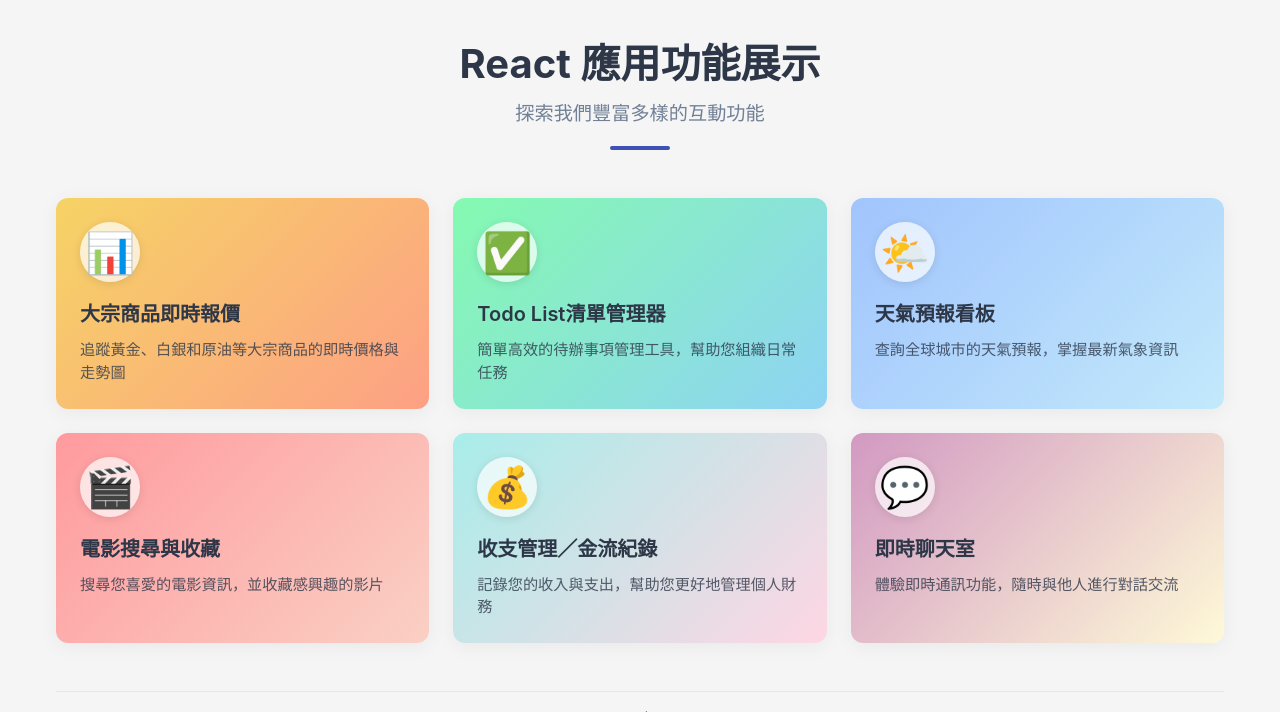
Scenario: Todo List 功能測試 › 可以新增一筆 todo，並完成、刪除它
This screenshot has width=1280, height=712.
Step 1. Click the link "✅ Todo List清單管理器 簡單高效的待辦事項管理工具，幫助您組織日常任務" → (640, 304), box [453,198,826,409]
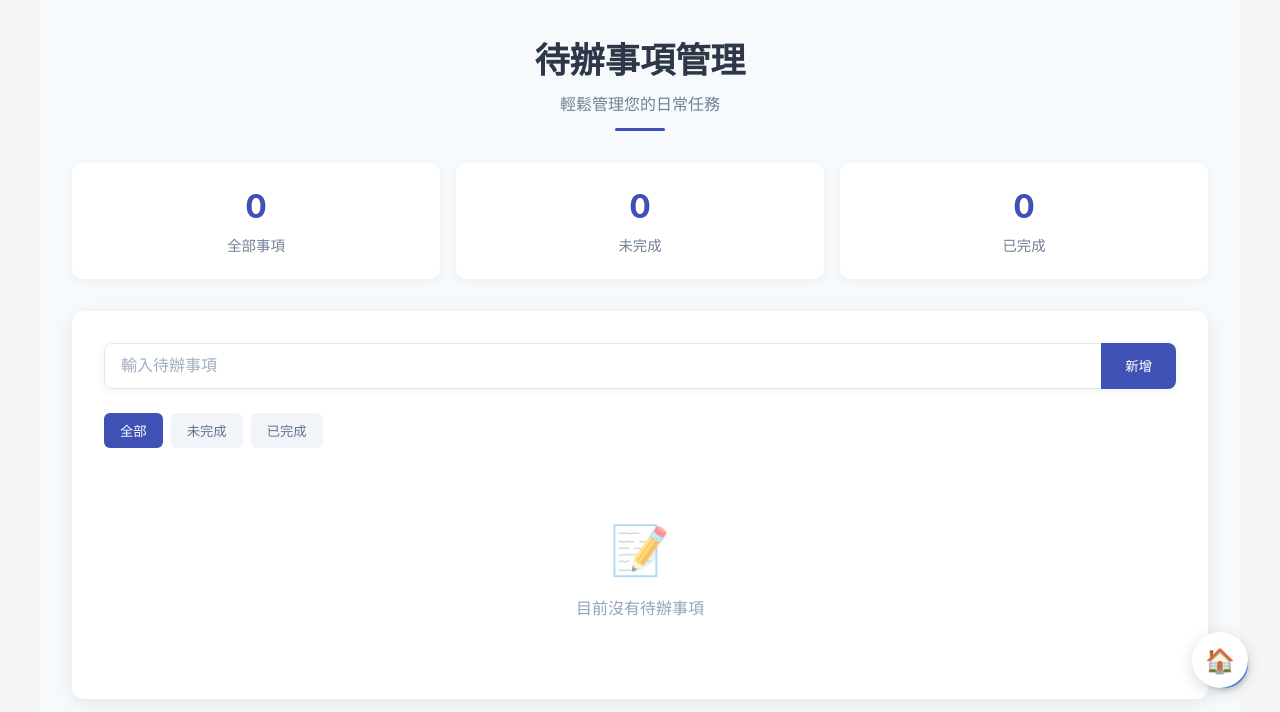
Step 2. Type "寫作業" into the field with placeholder "輸入待辦事項" → (603, 366), box [104,343,1101,389]
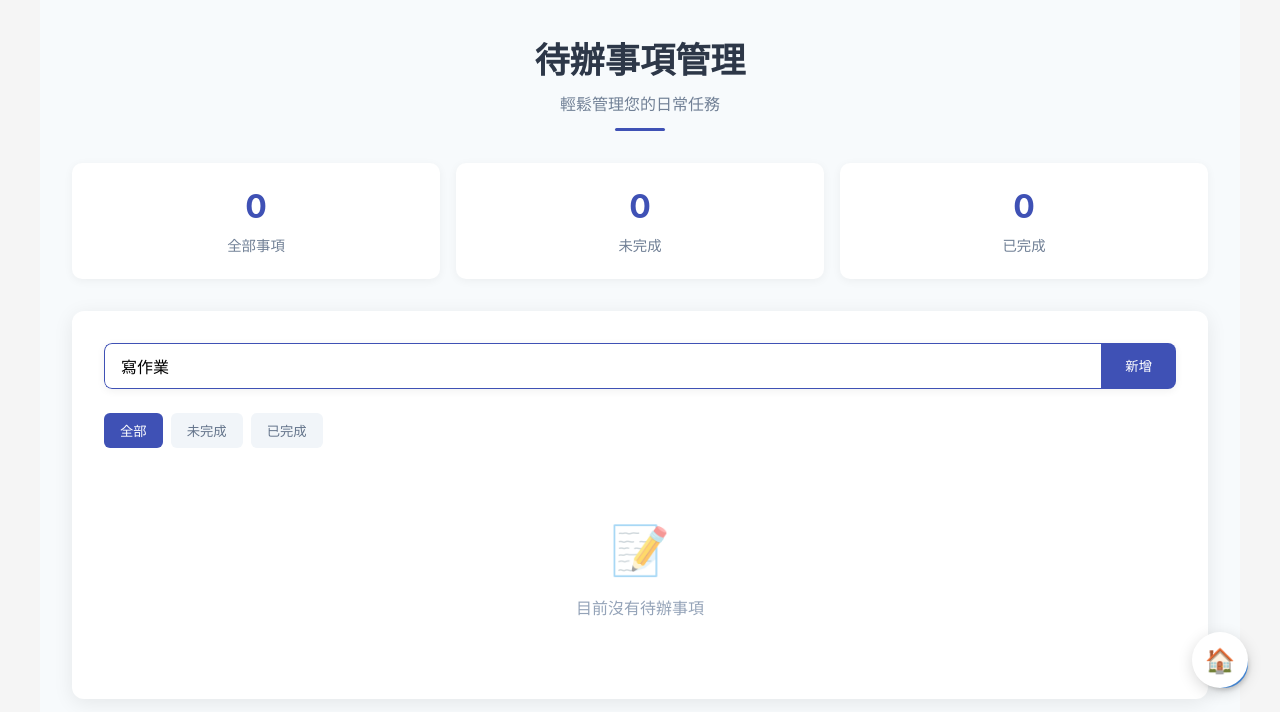
Step 3. Click the button "新增" → (1139, 366), box [1101,343,1176,389]
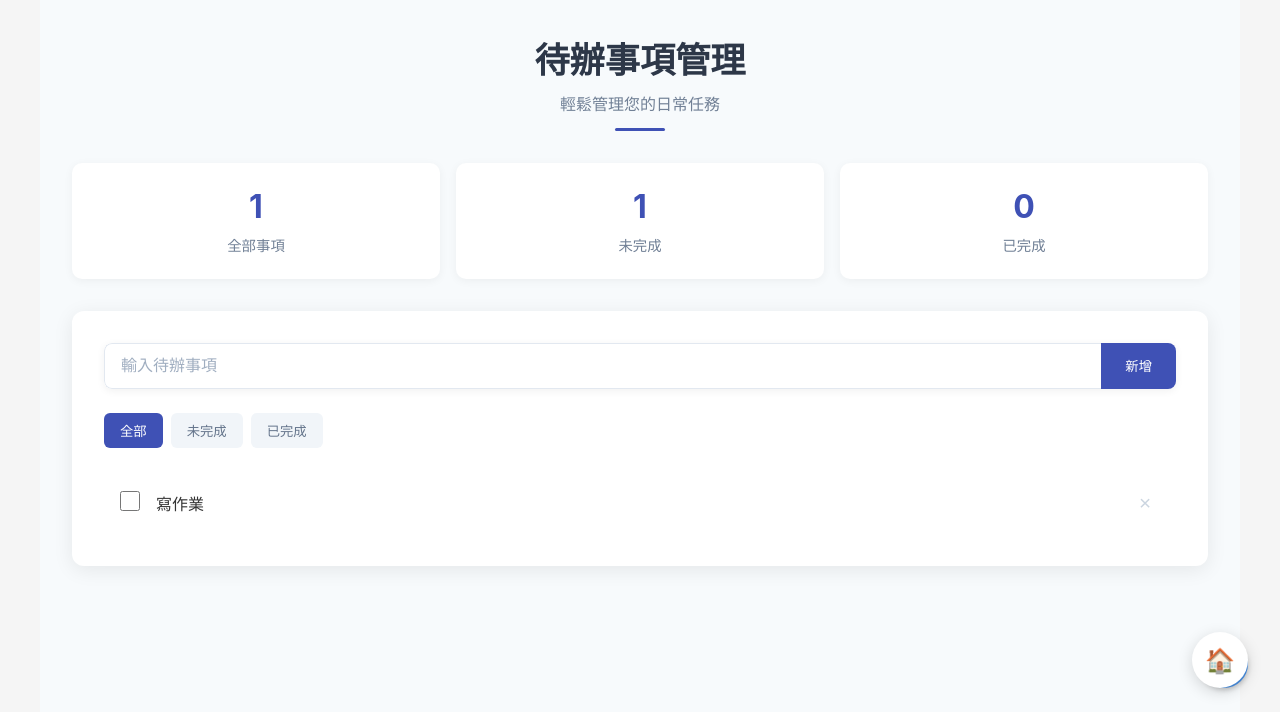
Expected: the list item "寫作業" is shown, [121,495,137,563]
Step 4. Check the checkbox → (130, 501), box [120,491,140,511]
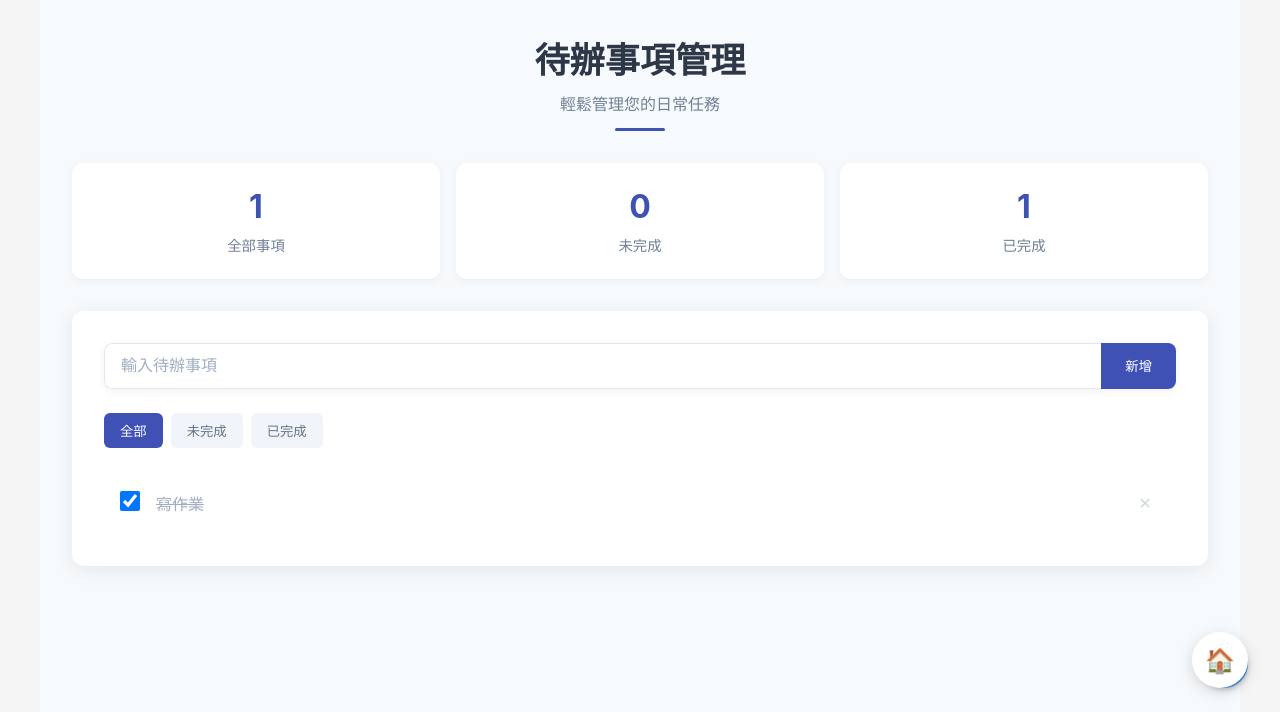
Expected: the list item "寫作業" has class "completed", [121,495,137,563]
Step 5. Click the button with class "todo-item-delete-button" → (1145, 503), box [1130,488,1160,518]
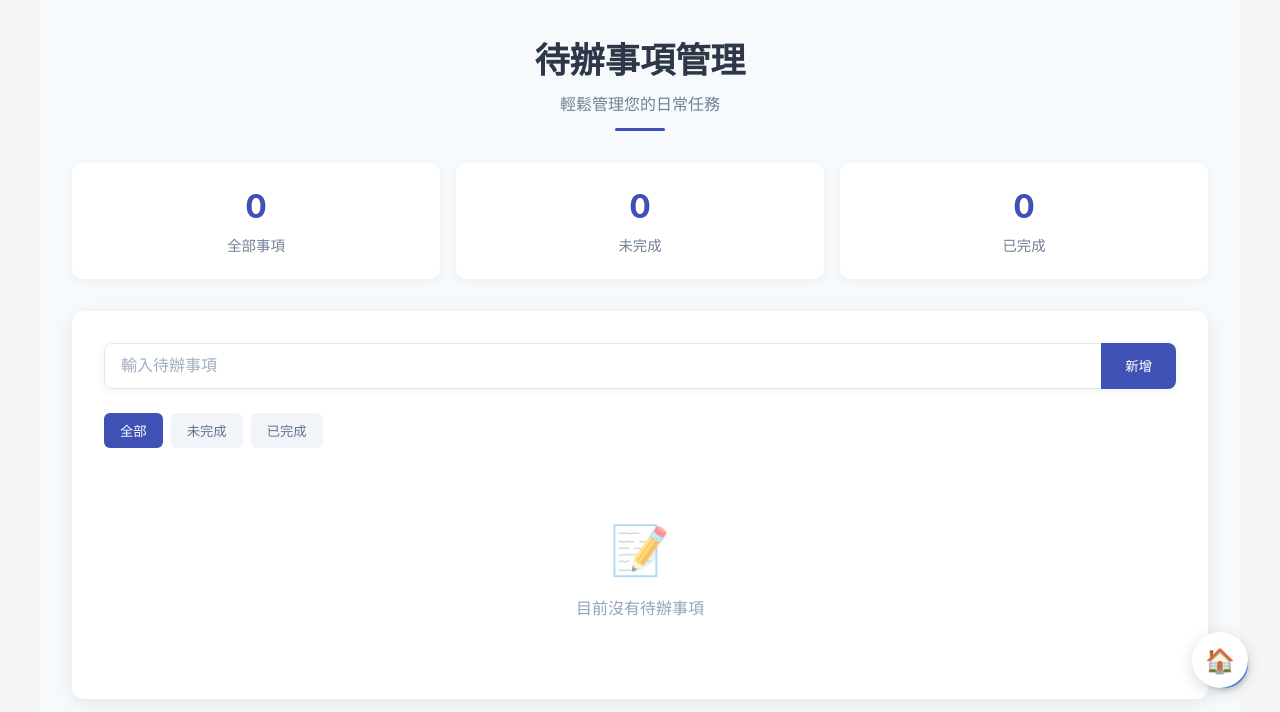
Expected: the list item with class "todo-item" is gone
